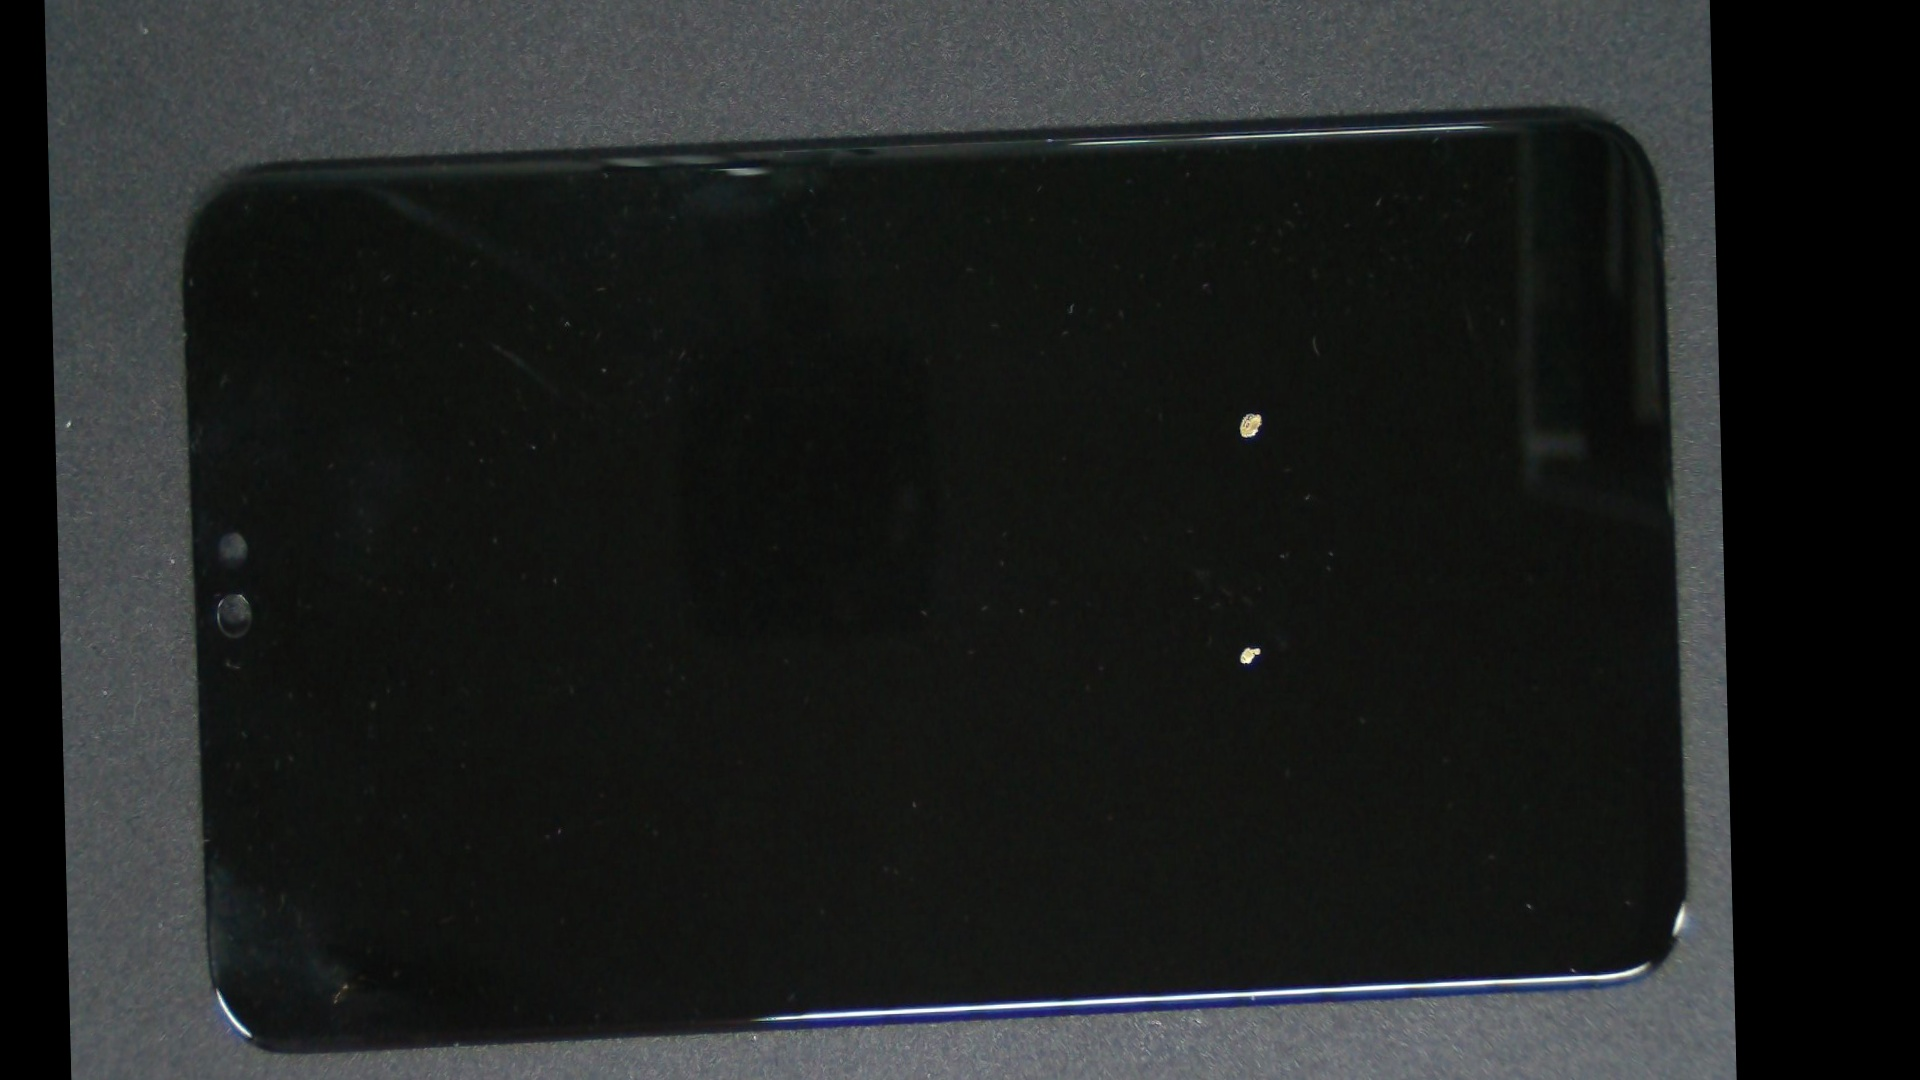oil: (646, 287, 1734, 1009), (647, 170, 1725, 658)
